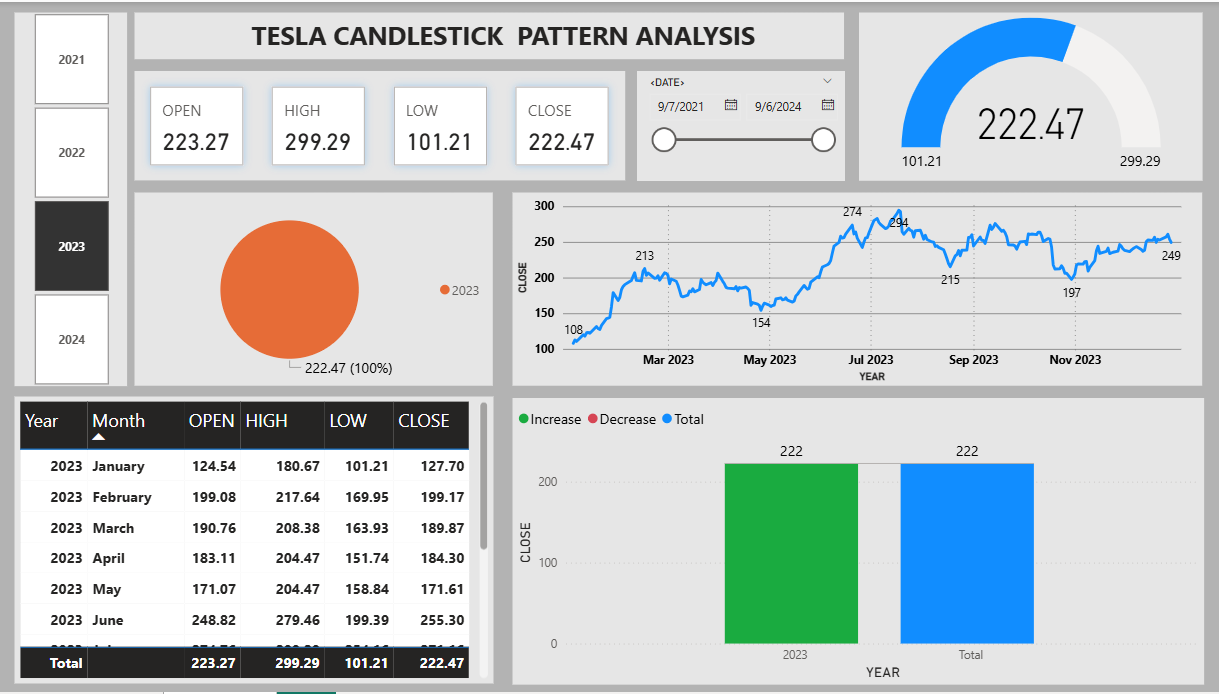

This screenshot's page, from the dashboard's own definition file:
{"tool":"powerbi","page":{"name":"Page 1","canvas":[1280,720],"ordinal":0},"visuals":[{"type":"lineChart","fields":{"Category":["TSLA_Daily_202109070000_2024090.<DATE>.Variation.Date Hierarchy.Year","TSLA_Daily_202109070000_2024090.<DATE>.Variation.Date Hierarchy.Quarter","TSLA_Daily_202109070000_2024090.<DATE>.Variation.Date Hierarchy.Month","TSLA_Daily_202109070000_2024090.<DATE>.Variation.Date Hierarchy.Day"],"Y":["Median(TSLA_Daily_202109070000_2024090.<CLOSE>)"]},"box":[542.4,198.5,719,201.6],"z":0},{"type":"slicer","fields":{"Values":["TSLA_Daily_202109070000_2024090.<DATE>"]},"box":[672.1,71.9,215.7,114.1],"z":1000},{"type":"gauge","fields":{"MaxValue":["Max(TSLA_Daily_202109070000_2024090.<HIGH>)"],"MinValue":["Min(TSLA_Daily_202109070000_2024090.<LOW>)"],"Y":["Median(TSLA_Daily_202109070000_2024090.<CLOSE>)"]},"box":[903.4,10.9,357.9,175.1],"z":2000},{"type":"slicer","fields":{"Values":["TSLA_Daily_202109070000_2024090.<DATE>.Variation.Date Hierarchy.Year"]},"box":[23.4,10.9,117.2,389.2],"z":3000},{"type":"tableEx","fields":{"Values":["TSLA_Daily_202109070000_2024090.<DATE>.Variation.Date Hierarchy.Year","TSLA_Daily_202109070000_2024090.<DATE>.Variation.Date Hierarchy.Month","Median(TSLA_Daily_202109070000_2024090.<OPEN>)","Max(TSLA_Daily_202109070000_2024090.<HIGH>)","Min(TSLA_Daily_202109070000_2024090.<LOW>)","Median(TSLA_Daily_202109070000_2024090.<CLOSE>)"]},"box":[23.4,411.1,498.6,298.5],"z":4000},{"type":"pieChart","fields":{"Category":["TSLA_Daily_202109070000_2024090.<DATE>.Variation.Date Hierarchy.Year","TSLA_Daily_202109070000_2024090.<DATE>.Variation.Date Hierarchy.Quarter","TSLA_Daily_202109070000_2024090.<DATE>.Variation.Date Hierarchy.Month","TSLA_Daily_202109070000_2024090.<DATE>.Variation.Date Hierarchy.Day"],"Y":["Median(TSLA_Daily_202109070000_2024090.<CLOSE>)"]},"box":[148.5,198.5,373.6,201.6],"z":5000},{"type":"waterfallChart","fields":{"Category":["TSLA_Daily_202109070000_2024090.<DATE>.Variation.Date Hierarchy.Year","TSLA_Daily_202109070000_2024090.<DATE>.Variation.Date Hierarchy.Quarter","TSLA_Daily_202109070000_2024090.<DATE>.Variation.Date Hierarchy.Month","TSLA_Daily_202109070000_2024090.<DATE>.Variation.Date Hierarchy.Day"],"Y":["Median(TSLA_Daily_202109070000_2024090.<CLOSE>)"]},"box":[542.4,412.6,720.5,298.5],"z":6000},{"type":"cardVisual","fields":{"Data":["Median(TSLA_Daily_202109070000_2024090.<OPEN>)","Max(TSLA_Daily_202109070000_2024090.<HIGH>)","Min(TSLA_Daily_202109070000_2024090.<LOW>)","Median(TSLA_Daily_202109070000_2024090.<CLOSE>)"]},"box":[148.5,71.9,511.1,114.1],"z":7000},{"type":"textbox","box":[148.5,10.9,739.3,48.5],"z":7001}]}

Visuals, with their boxes in screenshot pixels (x1, y1, x2, y2), scaled from the page's 1280x720 canvas onto the 1219x694 screenshot:
lineChart - TSLA_Daily_202109070000_2024090.<DATE>.Variation.Date Hierarchy.Year x TSLA_Daily_202109070000_2024090.<DATE>.Variation.Date Hierarchy.Quarter: [517, 191, 1201, 386]
slicer - TSLA_Daily_202109070000_2024090.<DATE>: [640, 69, 845, 179]
gauge - Max(TSLA_Daily_202109070000_2024090.<HIGH>) x Min(TSLA_Daily_202109070000_2024090.<LOW>): [860, 11, 1201, 179]
slicer - TSLA_Daily_202109070000_2024090.<DATE>.Variation.Date Hierarchy.Year: [22, 11, 134, 386]
tableEx - TSLA_Daily_202109070000_2024090.<DATE>.Variation.Date Hierarchy.Year x TSLA_Daily_202109070000_2024090.<DATE>.Variation.Date Hierarchy.Month: [22, 396, 497, 684]
pieChart - TSLA_Daily_202109070000_2024090.<DATE>.Variation.Date Hierarchy.Year x TSLA_Daily_202109070000_2024090.<DATE>.Variation.Date Hierarchy.Quarter: [141, 191, 497, 386]
waterfallChart - TSLA_Daily_202109070000_2024090.<DATE>.Variation.Date Hierarchy.Year x TSLA_Daily_202109070000_2024090.<DATE>.Variation.Date Hierarchy.Quarter: [517, 398, 1203, 685]
cardVisual - Median(TSLA_Daily_202109070000_2024090.<OPEN>) x Max(TSLA_Daily_202109070000_2024090.<HIGH>): [141, 69, 628, 179]
textbox: [141, 11, 845, 57]
